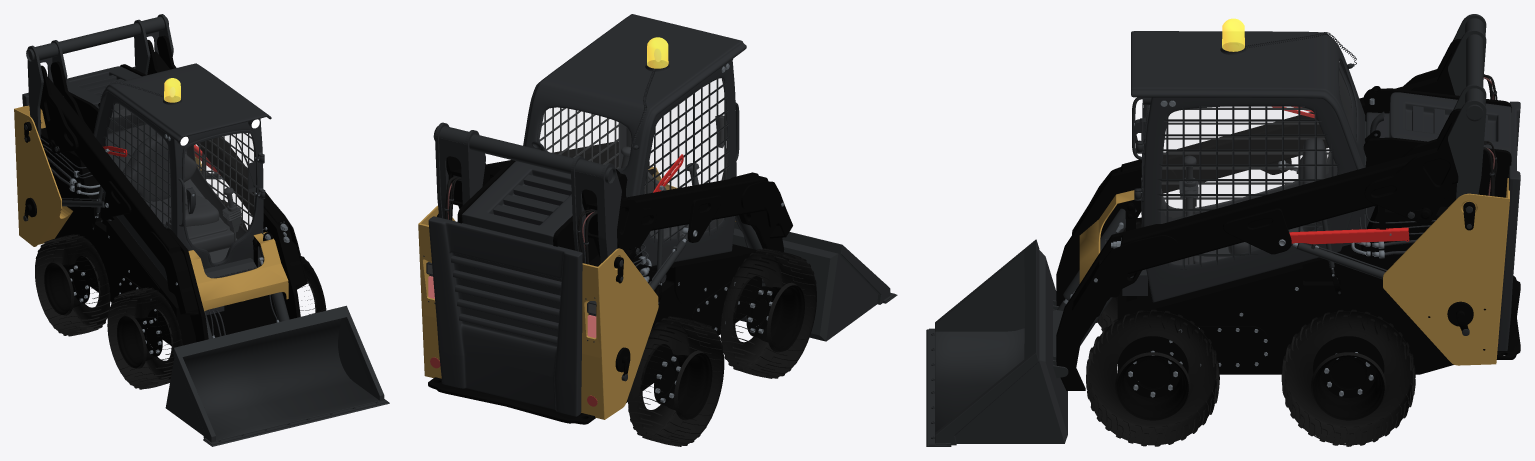
File: caterpillar_opt.glb
The picture shows the model from 3 angles, left to right: view 1: azimuth 30°, elevation 25°; view 2: azimuth 150°, elevation 25°; view 3: azimuth 270°, elevation 25°; orthographic projection. The views are drawn at different scales.
Visible parts, largest first — view 1: Shovel, Main_arm, Tires, Body_undercarriage, Canopy, Cabin, Triangle_back_plate, Grid, Front_plate, Tires_rims, Seat, Rear_arm_connectors (+12 smaller); view 2: Engine_back, Canopy, Tires, Triangle_back_plate, Main_arm, Shovel, Tires_rims, Grid, Cabin, Engine_top, Rear_arm_connectors, Body_undercarriage (+10 smaller); view 3: Main_arm, Shovel, Tires, Canopy, Triangle_back_plate, Body_undercarriage, Cabin, Grid, Tires_rims, Rear_arm_connectors, Side_panel.001, Engine_top (+15 smaller).
Boxes of the visible parts, x1,y1,x2,y2 form: Shovel: [165, 305, 389, 446]; Main_arm: [40, 35, 307, 342]; Tires: [35, 200, 326, 389]; Body_undercarriage: [40, 127, 278, 345]; Canopy: [93, 63, 271, 141]; Cabin: [96, 64, 263, 280]; Triangle_back_plate: [14, 105, 201, 246]; Grid: [105, 103, 255, 229]; Front_plate: [188, 231, 288, 311]; Tires_rims: [44, 263, 162, 368]; Seat: [123, 134, 219, 226]; Rear_arm_connectors: [27, 14, 173, 139]; Engine_back: [428, 216, 582, 416]; Canopy: [523, 14, 746, 197]; Tires: [627, 248, 816, 446]; Triangle_back_plate: [418, 205, 658, 419]; Main_arm: [446, 141, 792, 260]; Shovel: [732, 221, 897, 341]; Tires_rims: [654, 285, 804, 419]; Grid: [539, 77, 729, 242]; Cabin: [537, 59, 736, 266]; Engine_top: [462, 161, 572, 244]; Rear_arm_connectors: [435, 122, 621, 259]; Body_undercarriage: [589, 244, 761, 402]; Main_arm: [1056, 39, 1460, 390]; Shovel: [926, 239, 1067, 446]; Tires: [1086, 217, 1415, 446]; Canopy: [1131, 31, 1365, 169]; Triangle_back_plate: [1383, 178, 1509, 365]; Body_undercarriage: [1117, 205, 1485, 374]; Cabin: [1143, 35, 1356, 302]; Grid: [1157, 105, 1339, 269]; Tires_rims: [1117, 348, 1384, 420]; Rear_arm_connectors: [1448, 14, 1486, 199]; Side_panel.001: [1159, 268, 1302, 317]; Engine_top: [1366, 92, 1511, 153].
Size of the model in its own units: 161 by 232 by 346.
19 materials, 1 textured.
